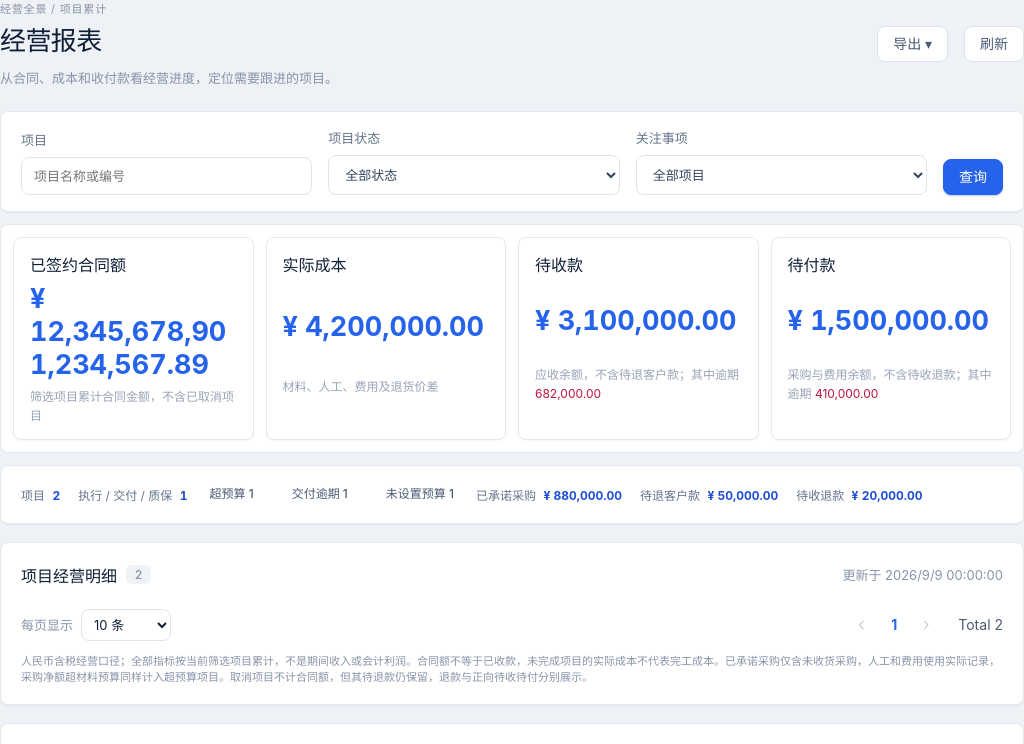
it: 经营报表 › 筛选提交到接口，失败清除旧经营金额
Type "装配线" into the field named "搜索项目". click: (167, 176)
box: [21,157,312,195]
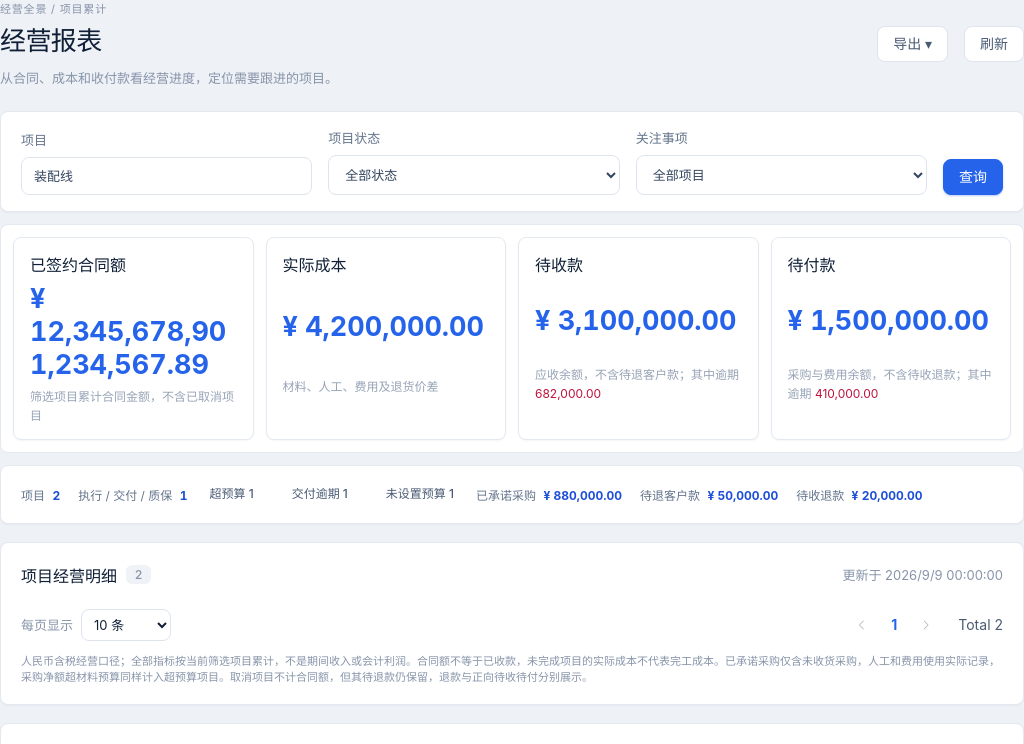
Select "超预算" in the dropdown named "关注事项". click: (781, 175)
box: [636,155,927,195]
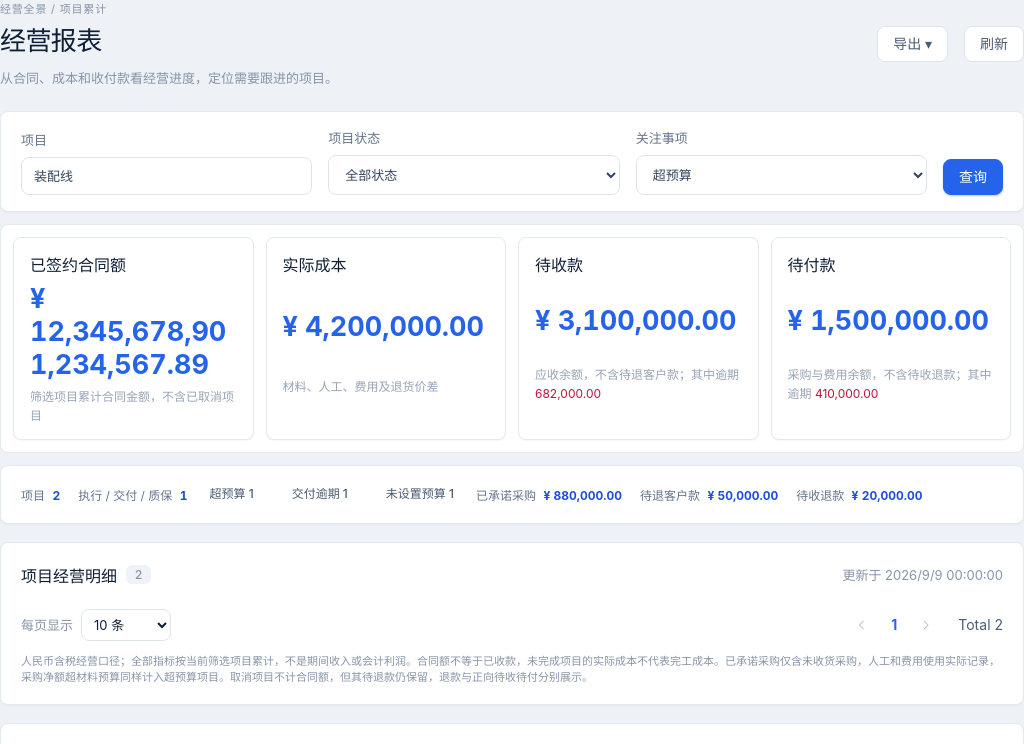
Submit the form, box [21,128,1003,195]
Submit the form, box [21,128,1003,195]
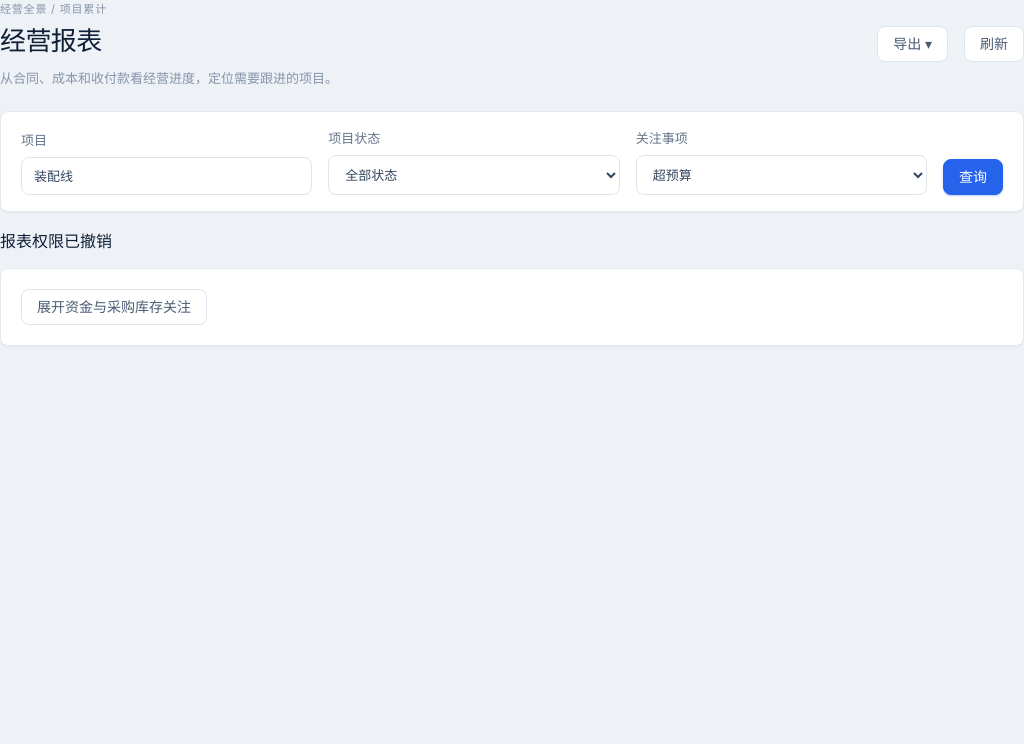
Expected: the text "12,345,678,901,234,567.89" is gone
Expected: the message "报表权限已撤销" is shown, [0,231,112,251]
